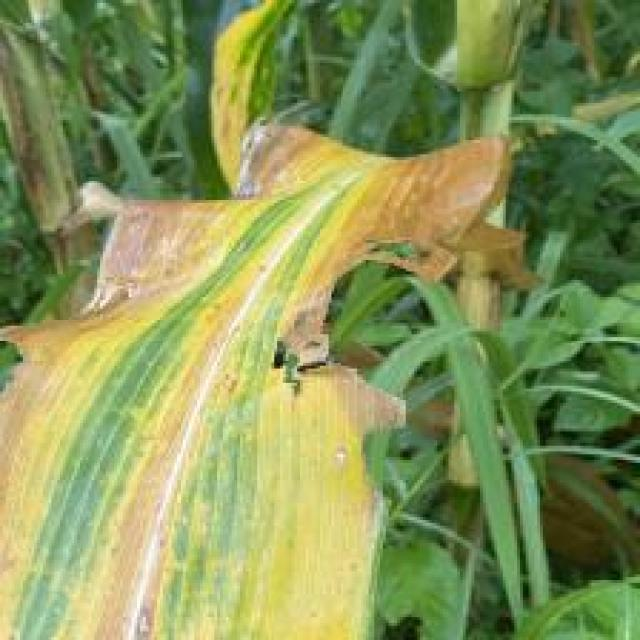Plaga: (281, 348, 350, 394)
